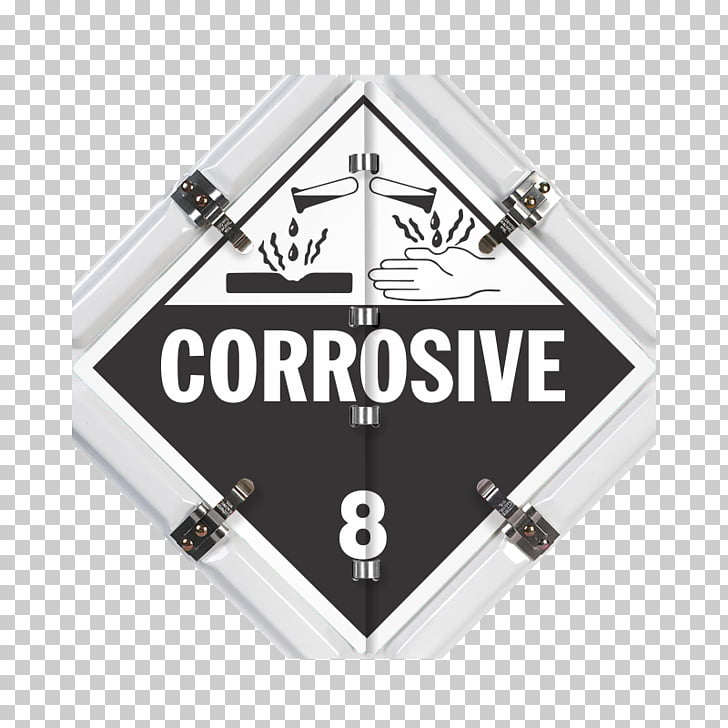Corrosive: (84, 87, 571, 568)
